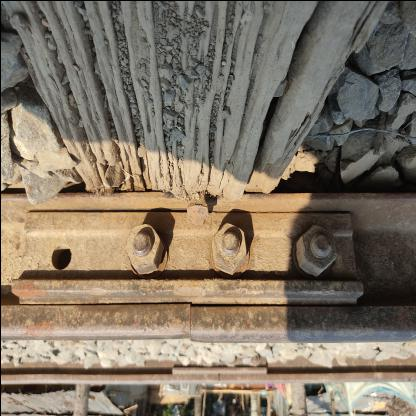Defective: (10, 193, 359, 300)
